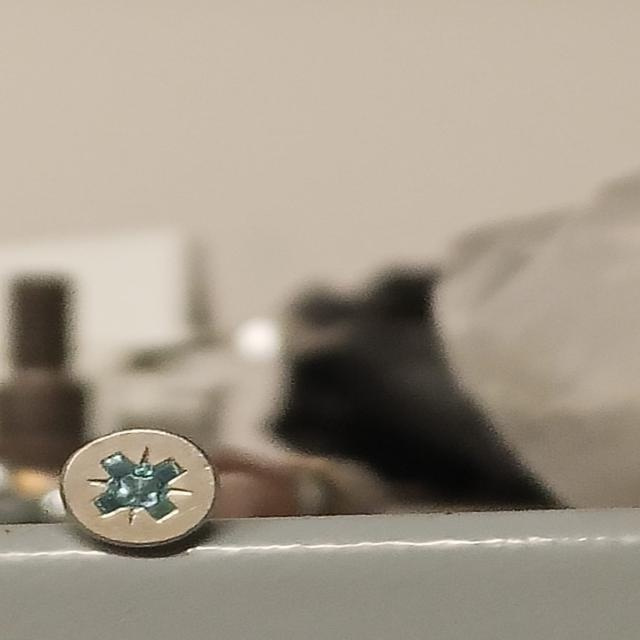pozidriv: (62, 427, 218, 550)
